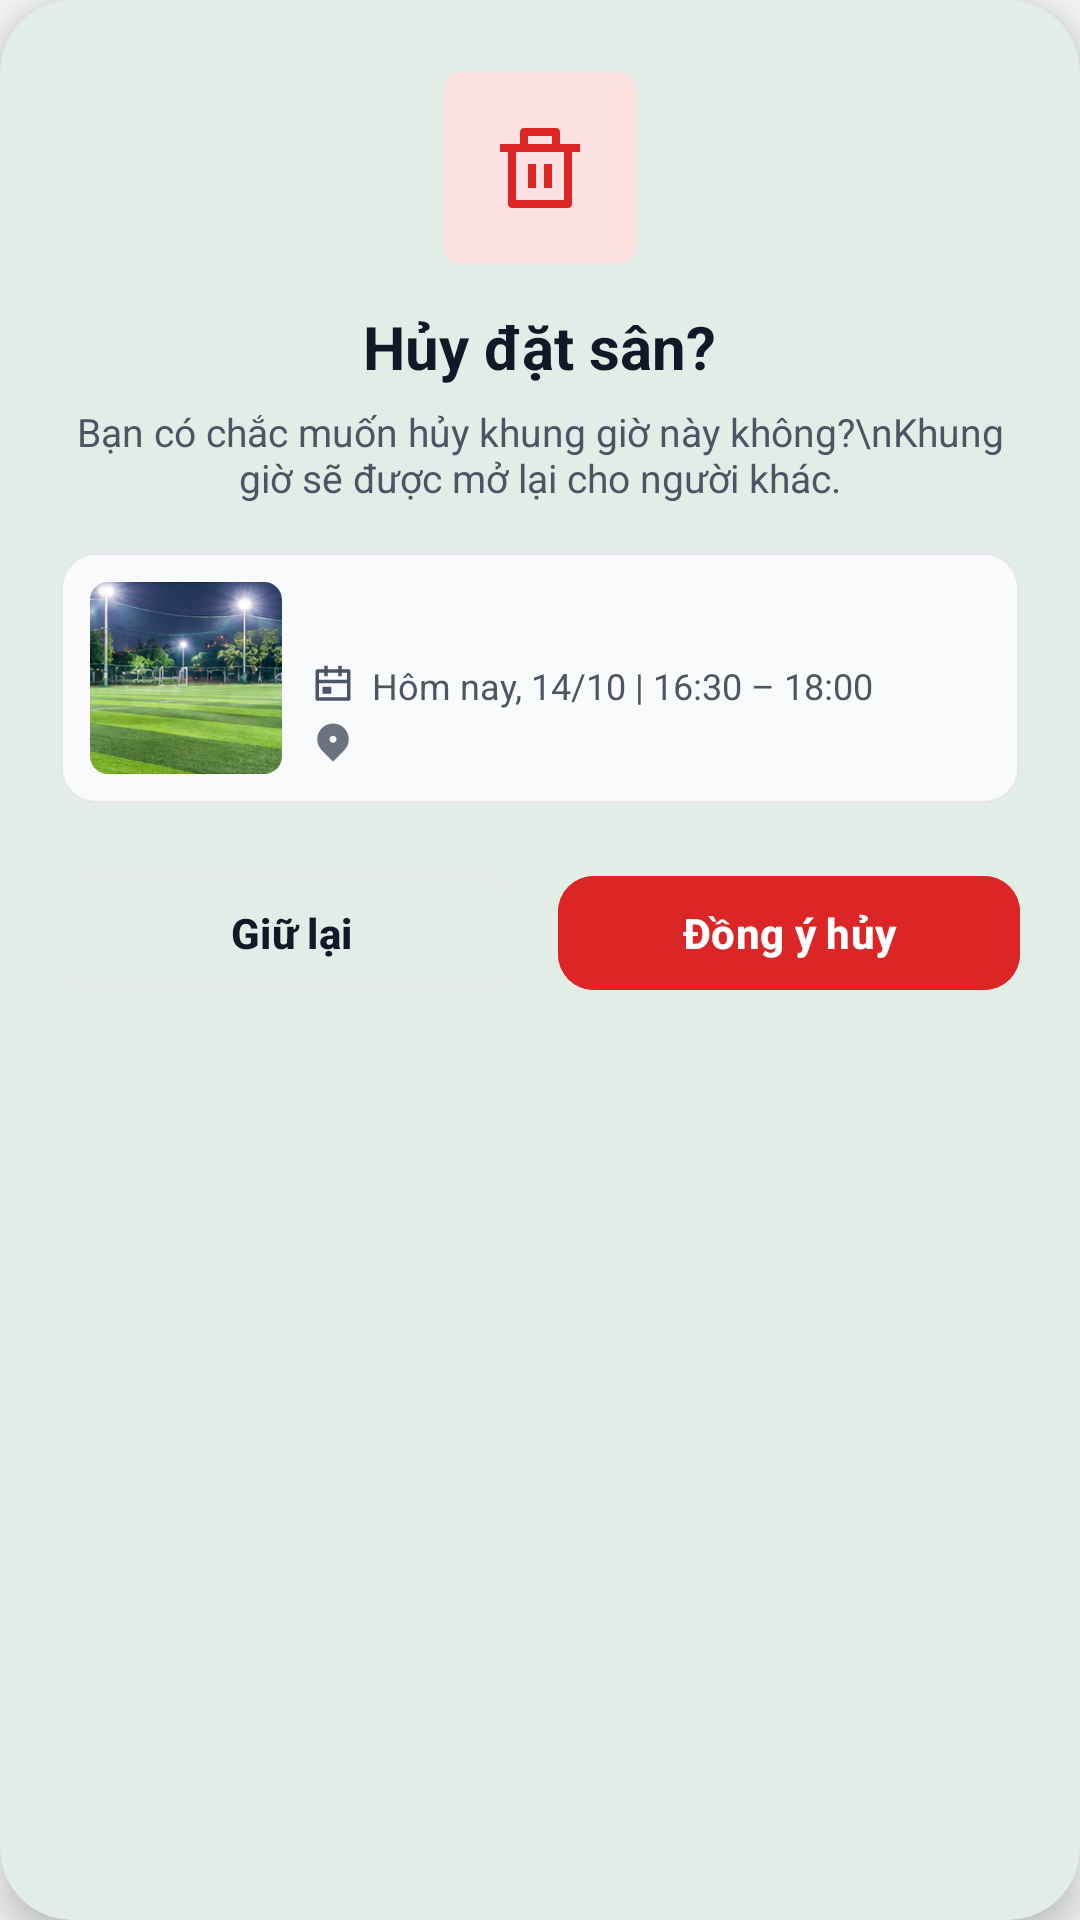

Where icons sit on this 1080x1920 app screen, as (x1,y1,x2,y2):
pitch: (90,582,282,774)
ri calendar: (315,665,351,701)
ri delete bin: (500,128,580,208)
ri map pin: (317,723,349,762)
